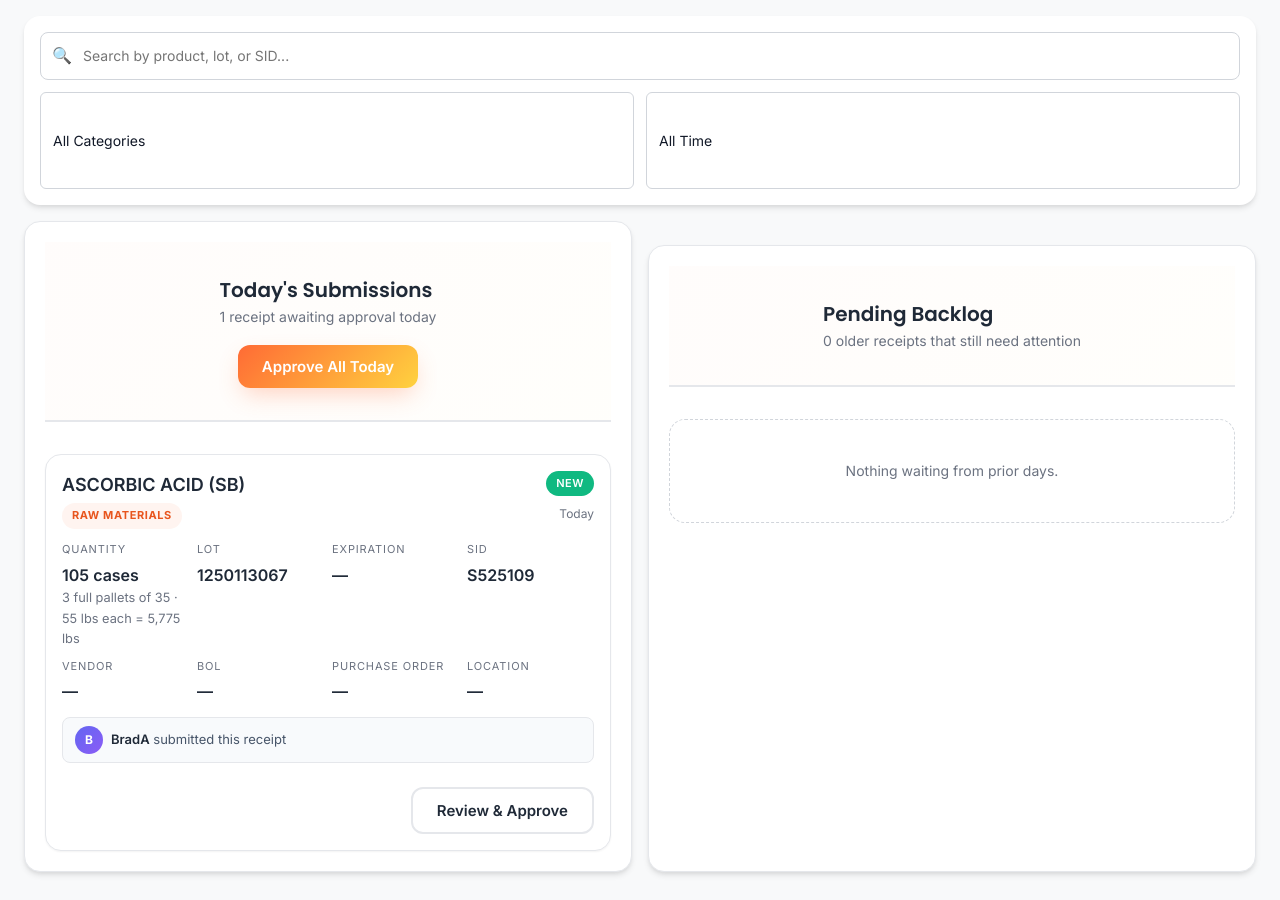
it: receipt review shows the count › card and review say how many, weight each, and pallets
Expected: the text "3 full pallets of 35 · 55 lbs each = 5,775 lbs" is shown, top-left (62, 588), bottom-right (189, 650)
Click the button "Review & Approve": (502, 810) top-left (411, 787), bottom-right (594, 834)
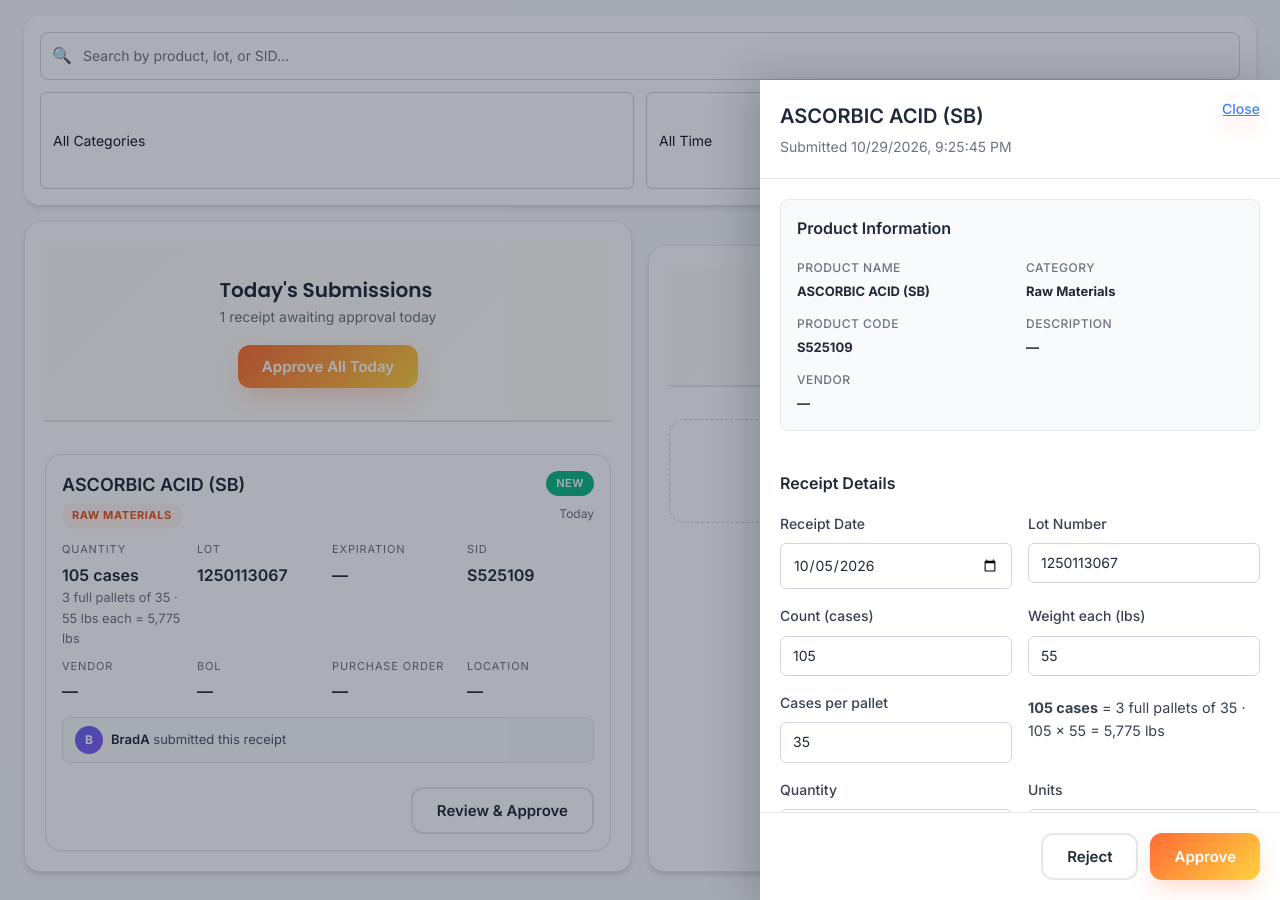
Expected: the text "Count (cases)" is shown, top-left (780, 607), bottom-right (874, 624)
Expected: the text "Weight each (lbs)" is shown, top-left (1028, 607), bottom-right (1145, 624)
Expected: the text "105 cases = 3 full pallets of 35 · 105 × 55 = 5,775 lbs" is shown, top-left (1028, 699), bottom-right (1246, 739)
